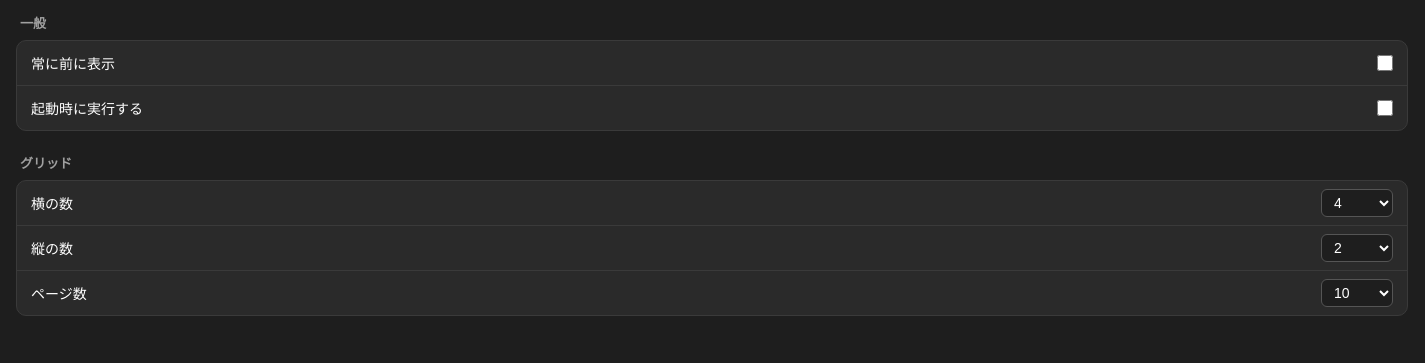
SettingsView layout › goes back and shows the reason when the items do not fit
Select "1" in the dropdown labelled "縦の数". click: (1357, 248)
box: [1321,234,1393,262]
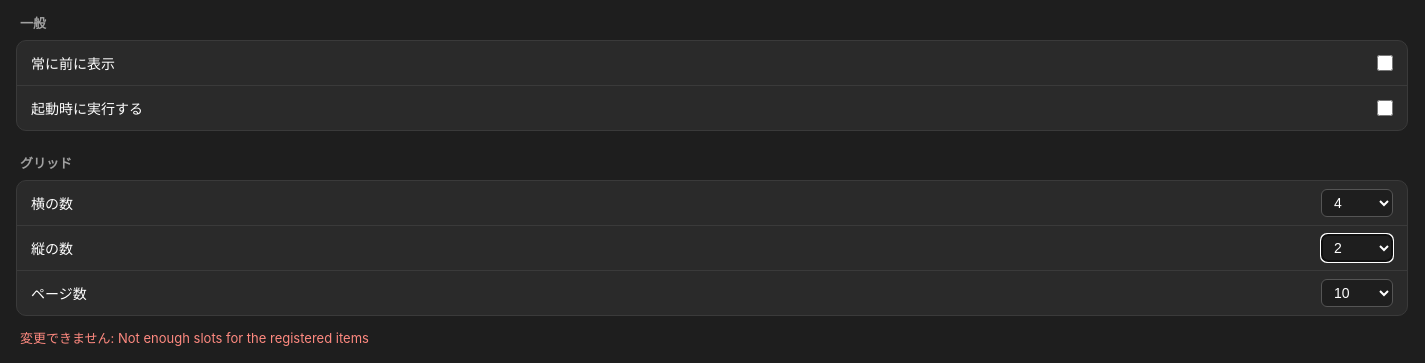
Expected: the message reads "変更できません: Not enough slots for the registered items", [20,330,369,346]
